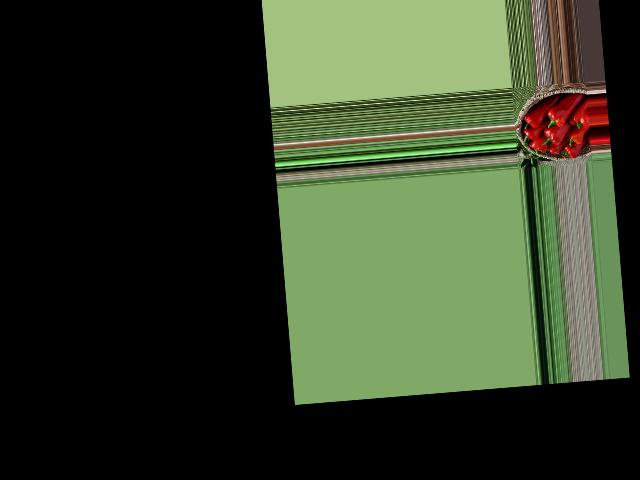bell_pepper: (520, 125, 542, 143)
